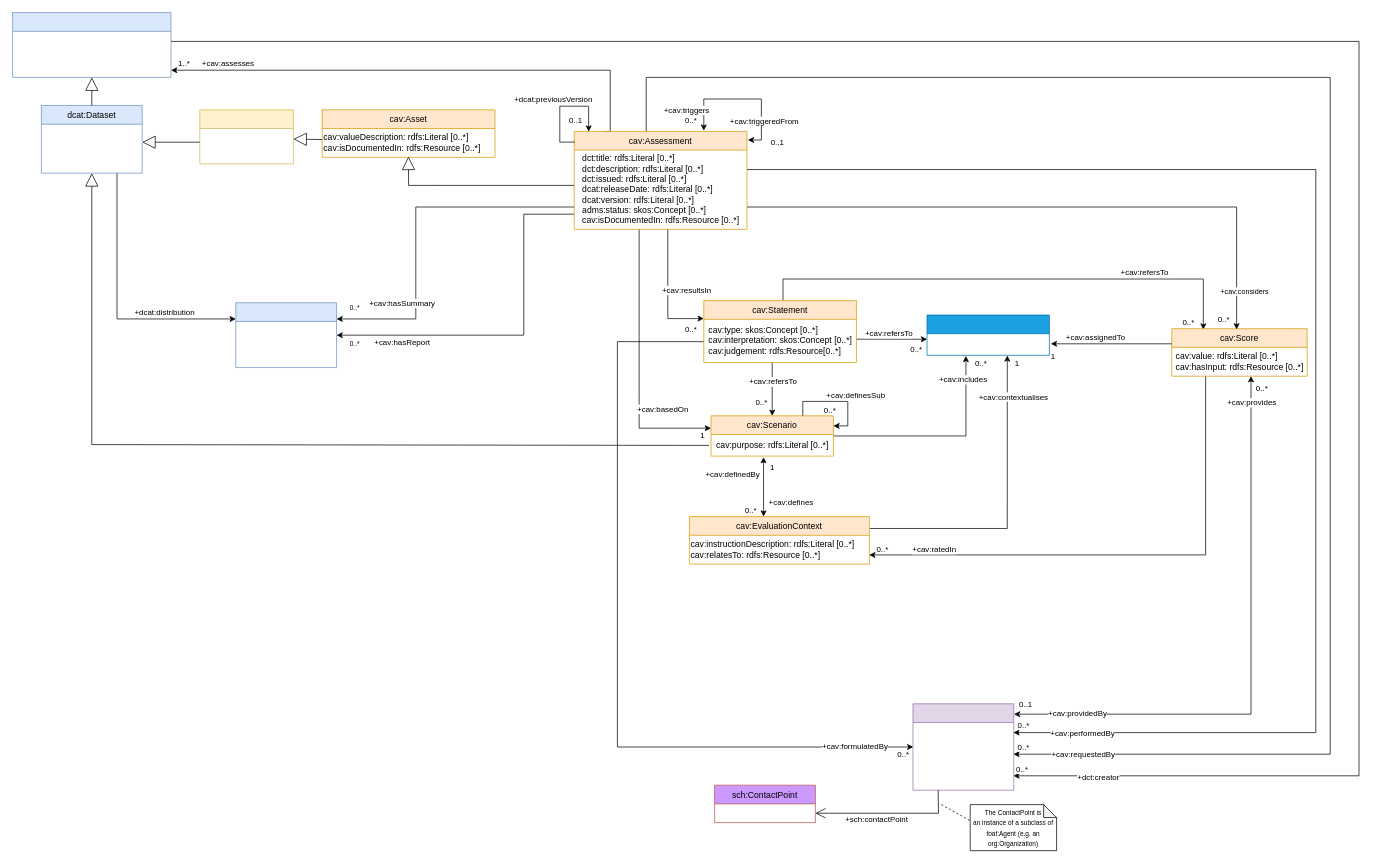
This 1377x863 diagram has some shape labels left out. The centre of each missing label's shape, as x and y in pixels:
adms:Asset: the point at 246,136
cccev:Criterion: the point at 987,334
dcat:Distribution: the point at 286,335
dcat:Resource: the point at 91,44
foaf:Agent: the point at 963,746
